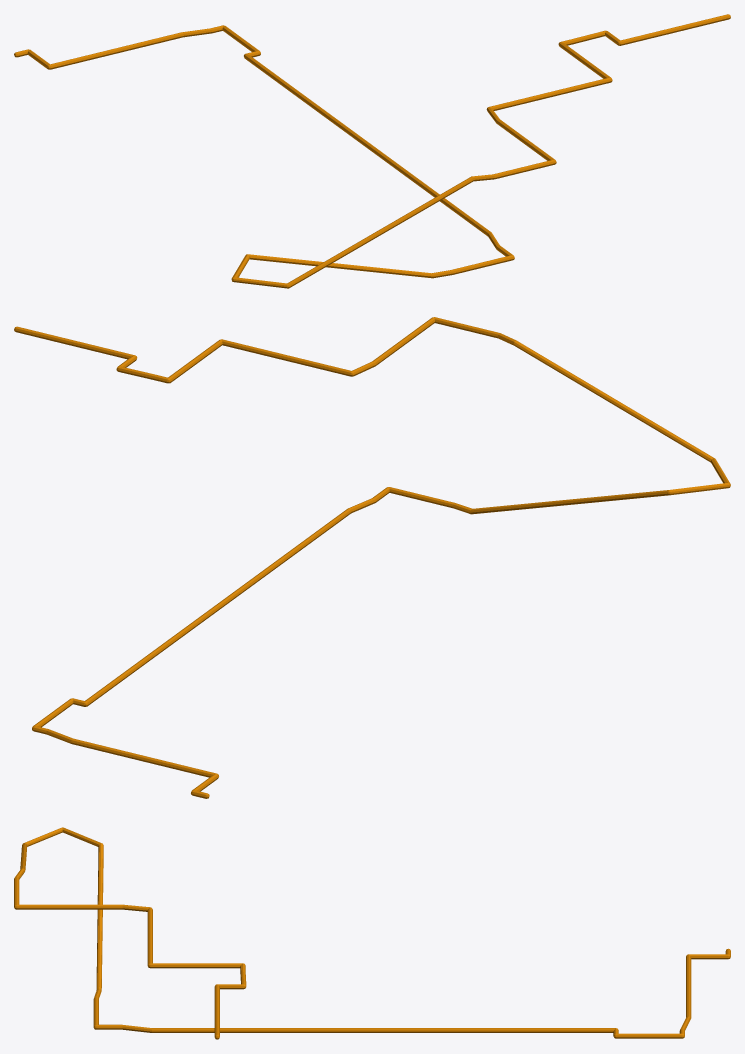
3 renders of one model, top to bottom at view 1: azimuth 30°, elevation 25°; view 2: azimuth 150°, elevation 25°; view 3: azimuth 270°, elevation 25°, orthographic. The views are drawn at different scales.
Size of the model in its own units: 2406 by 520 by 2704.
